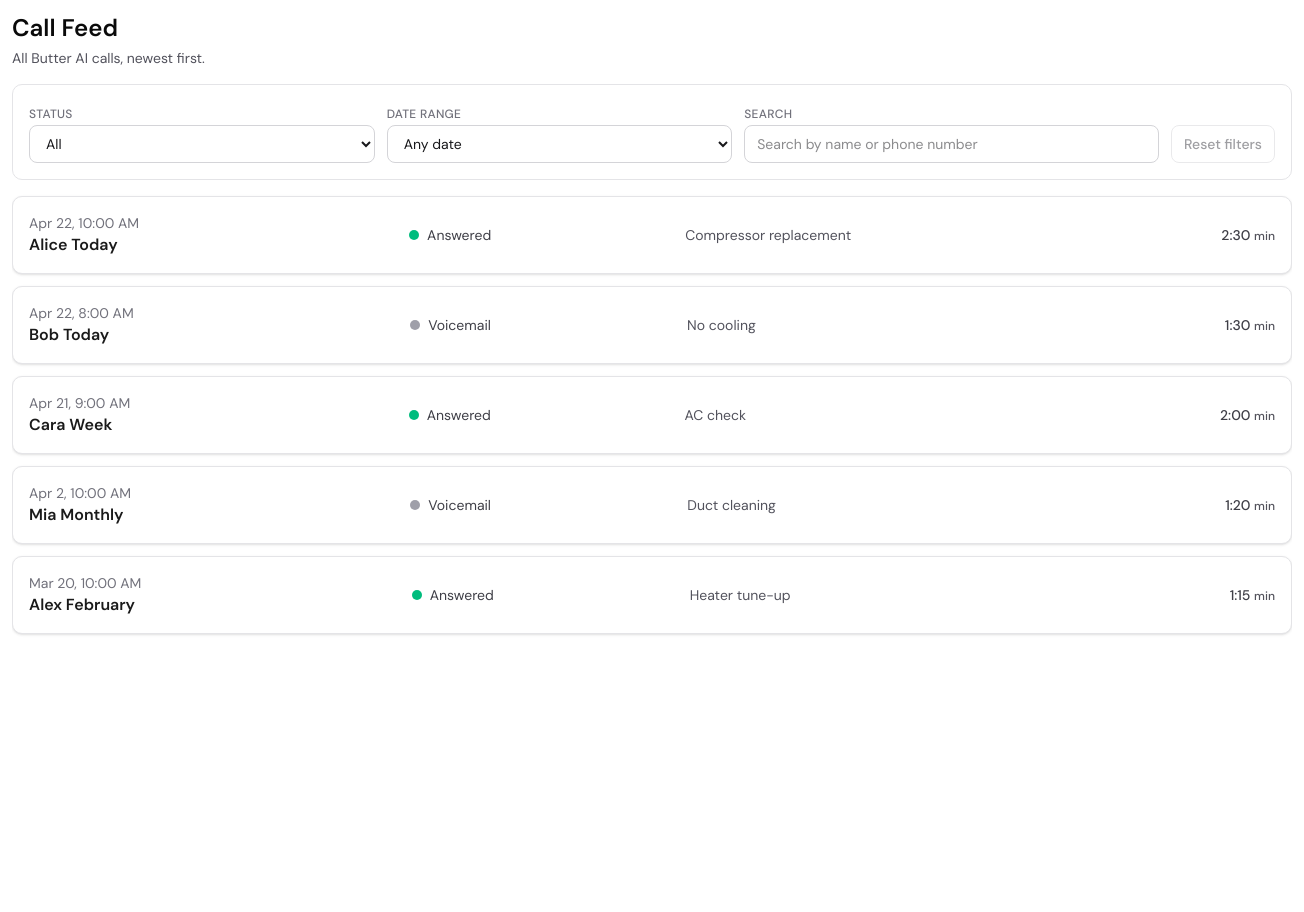
Test: CallFeed › filters by search term for phone number partial match
The width and height of the screenshot is (1304, 912).
Expected: the button with aria-label "Toggle details for Alice Today" is shown, [13,197,1291,273]
Step 1. Type "999" into the field labelled "Search" → [952, 144], box [744,125,1159,163]
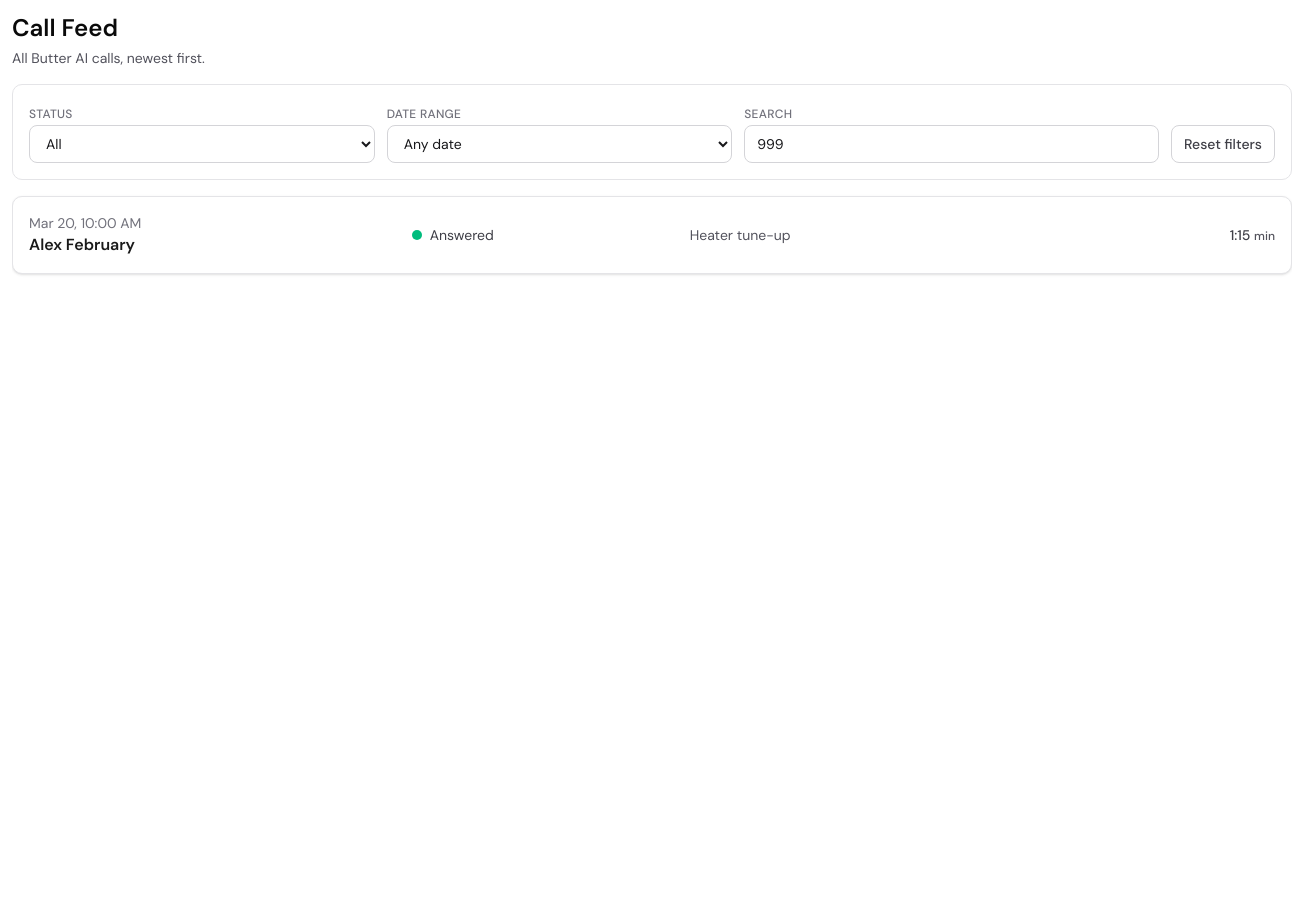
Expected: the button "Alex February" is shown, [13,197,1291,273]
Now the button "Alice Today" is gone
